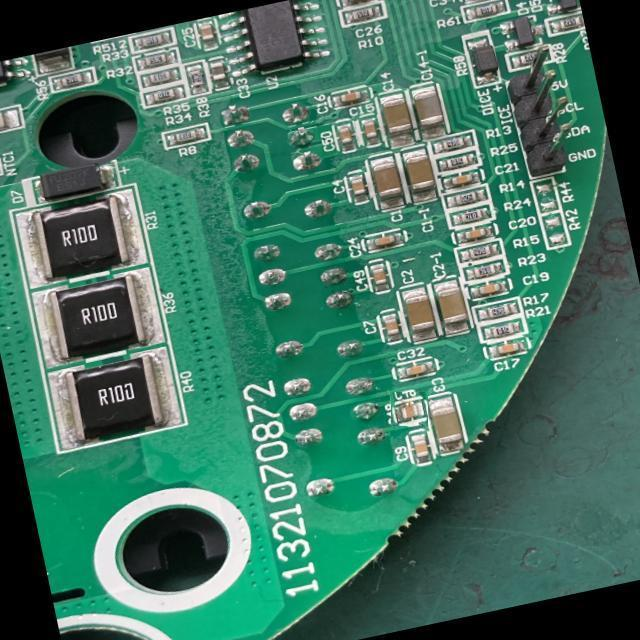damged: (391, 391, 427, 427)
